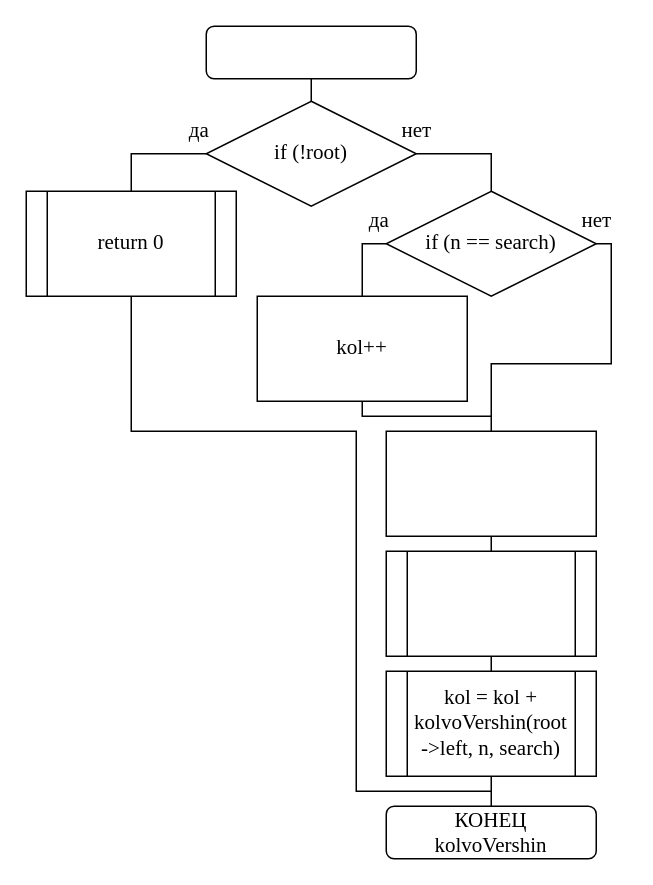
Image size: 653x885. Some labels were removed from this diagram. The shapes that lost their labels are listed below. From the top down, each one's centre as x and y in pixels, then its label:
the point at 310,52: НАЧАЛО kolvoVershin
the point at 490,483: search++
the point at 490,603: kol = kol + kolvoVershin(root ->right, n, search)
